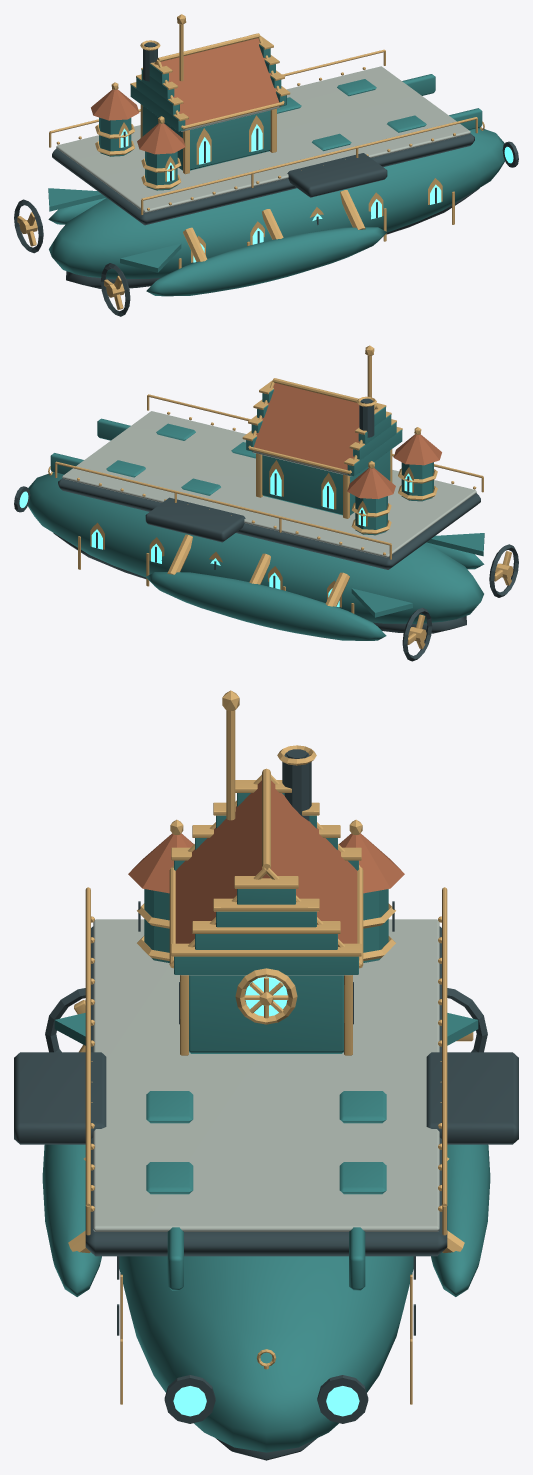
Rendered from nautilus.glb.
The picture shows the model from 3 angles, top to bottom: view 1: azimuth 30°, elevation 25°; view 2: azimuth 150°, elevation 25°; view 3: azimuth 270°, elevation 25°; orthographic projection. The views are drawn at different scales.
Visible parts, largest first — view 1: nautilus / Paint | Hanse merchant petrol, nautilus / Paint | armored limestone, nautilus / Hull | charcoal iron, nautilus / Fittings | worn maritime brass, nautilus / Copper | fired red roof, nautilus / Lamp | turbine mint, Runtime rotor 01 | nautilus, Runtime rotor 02 | nautilus; view 2: nautilus / Paint | Hanse merchant petrol, nautilus / Paint | armored limestone, nautilus / Hull | charcoal iron, nautilus / Fittings | worn maritime brass, nautilus / Copper | fired red roof, nautilus / Lamp | turbine mint, Runtime rotor 01 | nautilus, Runtime rotor 02 | nautilus; view 3: nautilus / Paint | Hanse merchant petrol, nautilus / Paint | armored limestone, nautilus / Hull | charcoal iron, nautilus / Fittings | worn maritime brass, nautilus / Copper | fired red roof, nautilus / Lamp | turbine mint.
Part boxes in pixels (box(x1,y1,x2,y2)): nautilus / Paint | Hanse merchant petrol: box(48, 44, 504, 296); nautilus / Paint | armored limestone: box(56, 66, 470, 212); nautilus / Hull | charcoal iron: box(14, 42, 518, 316); nautilus / Fittings | worn maritime brass: box(49, 14, 484, 268); nautilus / Copper | fired red roof: box(91, 38, 279, 154); nautilus / Lamp | turbine mint: box(120, 124, 513, 262); Runtime rotor 01 | nautilus: box(104, 275, 124, 309); Runtime rotor 02 | nautilus: box(17, 212, 37, 246); nautilus / Paint | Hanse merchant petrol: box(28, 389, 484, 640); nautilus / Paint | armored limestone: box(62, 411, 476, 557); nautilus / Hull | charcoal iron: box(14, 398, 518, 661); nautilus / Fittings | worn maritime brass: box(48, 345, 483, 613); nautilus / Copper | fired red roof: box(254, 383, 441, 498); nautilus / Lamp | turbine mint: box(19, 469, 412, 607); Runtime rotor 01 | nautilus: box(494, 551, 513, 585); Runtime rotor 02 | nautilus: box(407, 614, 426, 648); nautilus / Paint | Hanse merchant petrol: box(42, 793, 490, 1452); nautilus / Paint | armored limestone: box(93, 919, 439, 1231); nautilus / Hull | charcoal iron: box(14, 749, 518, 1460); nautilus / Fittings | worn maritime brass: box(68, 690, 464, 1404); nautilus / Copper | fired red roof: box(128, 780, 404, 943); nautilus / Lamp | turbine mint: box(173, 976, 359, 1416).
Size of the model in its own units: 10 by 5.68 by 4.96.
